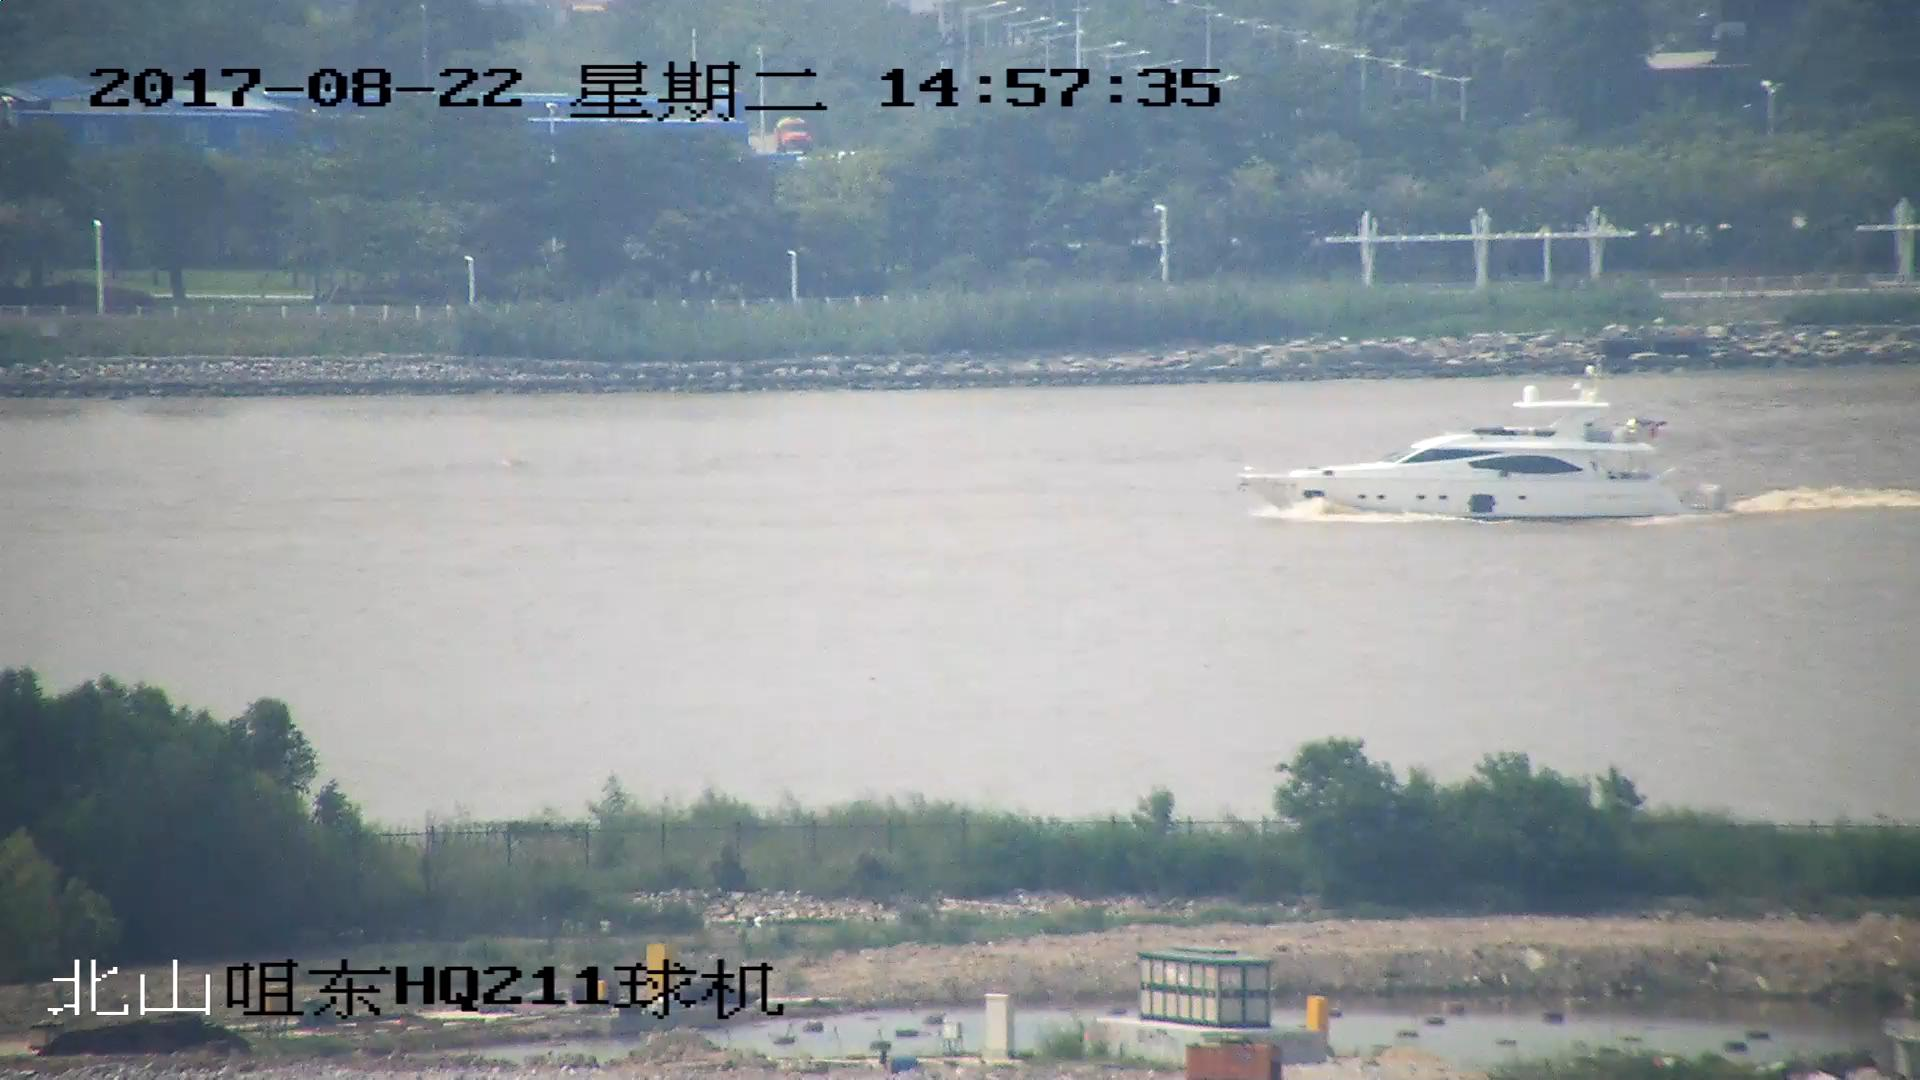passenger ship: (1236, 367, 1728, 527)
